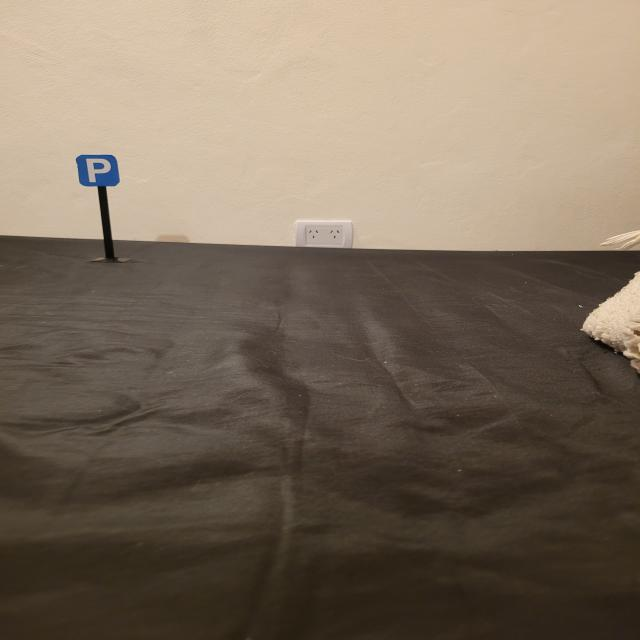parking: (75, 154, 120, 187)
